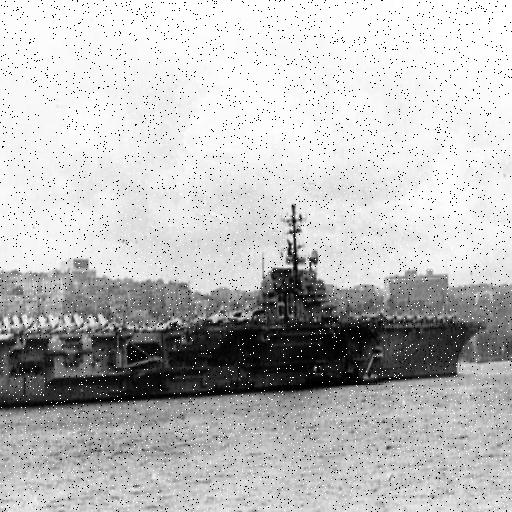Portanaves: (1, 191, 493, 419)
